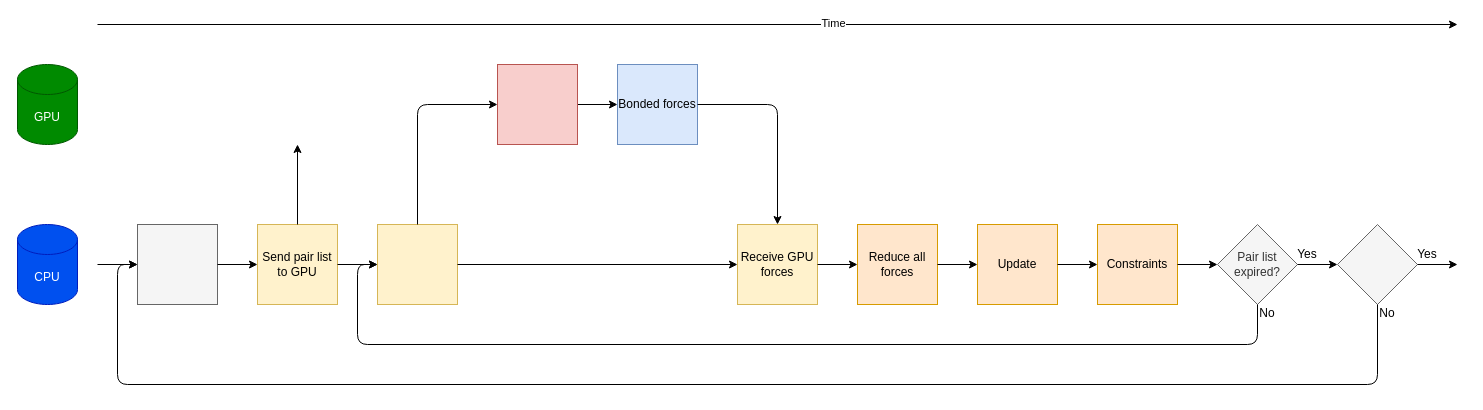
Image size: 1483x410. Some labels were removed from this diagram. Each missing label, with the centre of its shape:
Done?: point (1377, 264)
Pair search: point (177, 264)
Send position coordinates to GPU: point (417, 264)
Short-range non-bonded ("NB") forces: point (537, 104)
